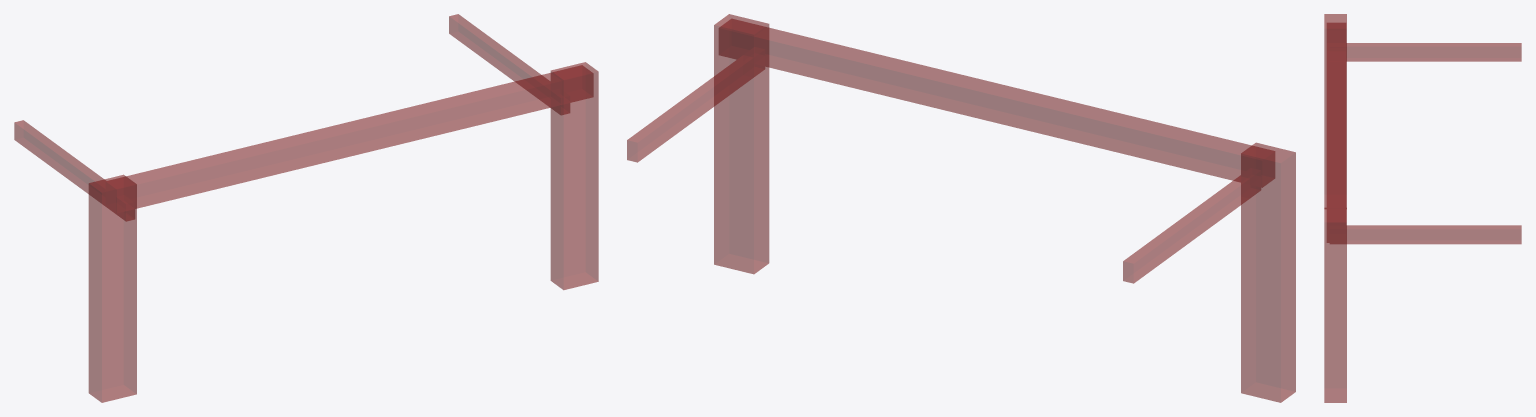
File: SM_Bld_Wall_Garage_01_Collision.fbx
The picture shows the model from 3 angles, left to right: view 1: azimuth 30°, elevation 25°; view 2: azimuth 150°, elevation 25°; view 3: azimuth 270°, elevation 25°; orthographic projection. The views are drawn at different scales.
Parts seen in each view (by area): view 1: SM_Bld_Wall_Garage_01_Collision; view 2: SM_Bld_Wall_Garage_01_Collision; view 3: SM_Bld_Wall_Garage_01_Collision.
Boxes of the visible parts, <box> form: SM_Bld_Wall_Garage_01_Collision: <box>14,14,598,402</box>; SM_Bld_Wall_Garage_01_Collision: <box>627,14,1295,402</box>; SM_Bld_Wall_Garage_01_Collision: <box>1324,14,1521,402</box>.
Size of the model in its own units: 752 by 304 by 301.
